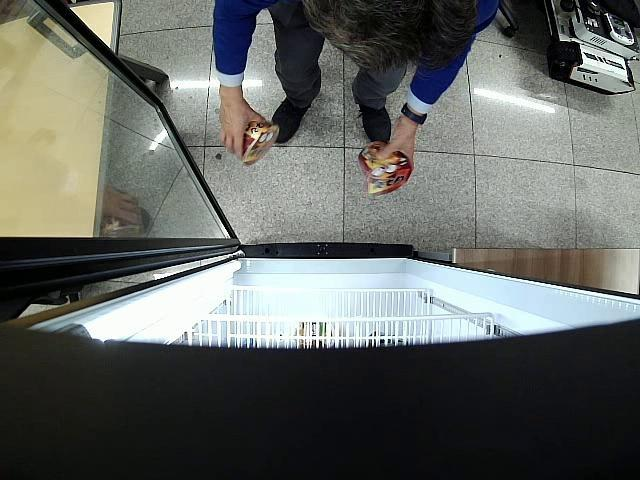05_nuguri_L: (358, 142, 413, 197), (242, 120, 280, 166)
